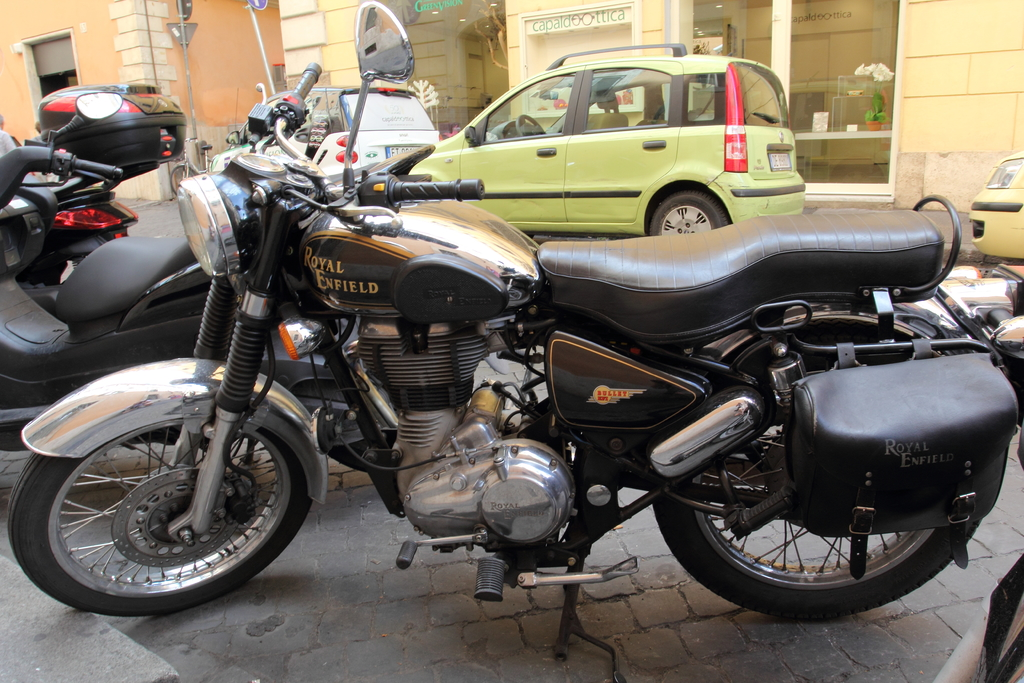Car: (386, 56, 832, 251), (209, 84, 440, 169)
